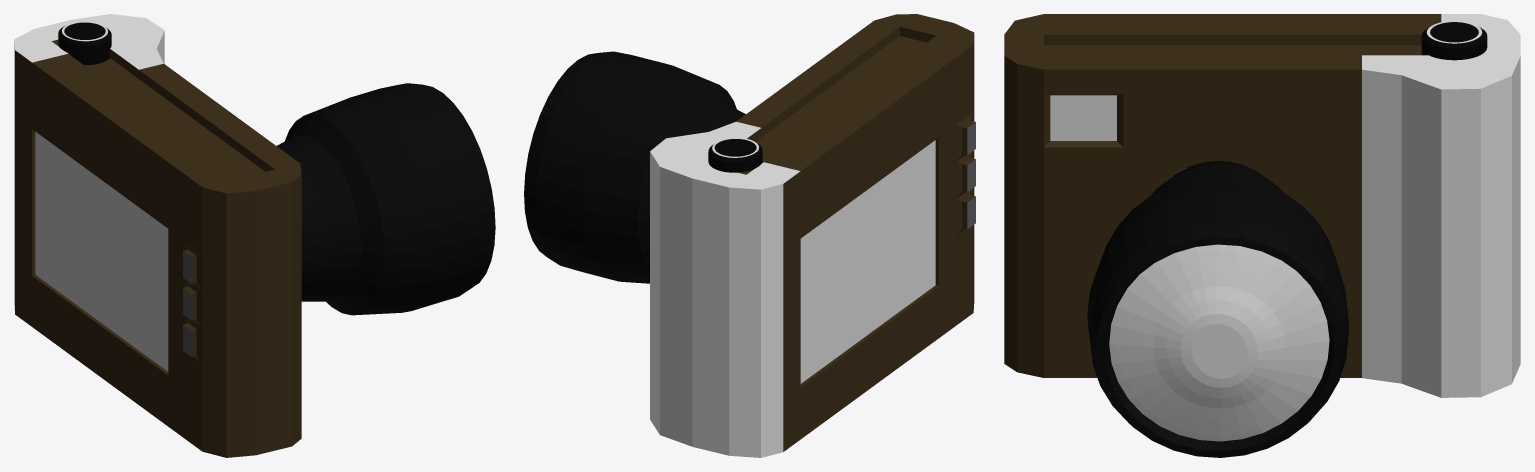
The model's file is camera.fbx.
3 views of the same model, side by side, from view 1: azimuth 30°, elevation 25°; view 2: azimuth 150°, elevation 25°; view 3: azimuth 270°, elevation 25° (orthographic). The views are drawn at different scales.
Visible parts, largest first — view 1: Cube, Cylinder, Cylinder.001; view 2: Cube, Cylinder, Cylinder.001; view 3: Cube, Cylinder, Cylinder.001.
Boxes of the visible parts, x1,y1,x2,y2 form: Cube: (14,14,301,457); Cylinder: (277,83,495,315); Cylinder.001: (58,21,111,64); Cube: (650,14,975,457); Cylinder: (524,51,745,283); Cylinder.001: (708,137,762,172); Cube: (1004,14,1520,397); Cylinder: (1087,161,1349,457); Cylinder.001: (1421,21,1487,60).
Bounding box in the file's own units: 196 × 158 × 229.
